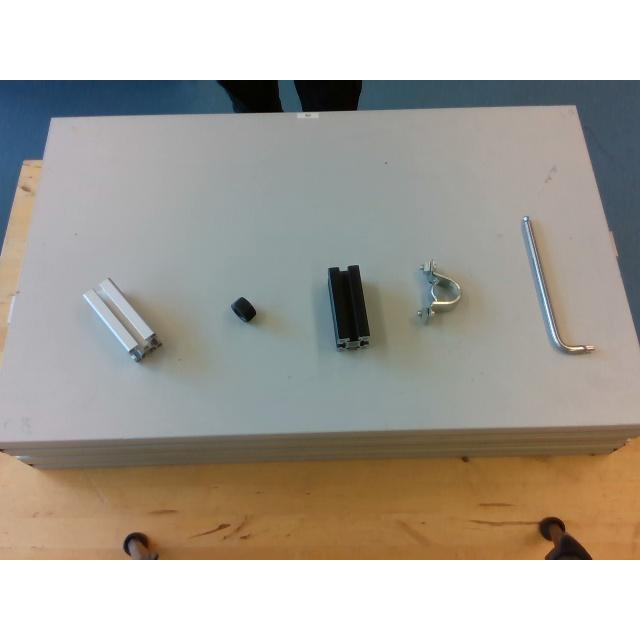AllenKey: (522, 216, 596, 354)
Housing: (415, 261, 461, 319)
M20: (230, 294, 256, 322)
S40_40_B: (328, 264, 368, 348)
S40_40_G: (84, 278, 160, 358)
